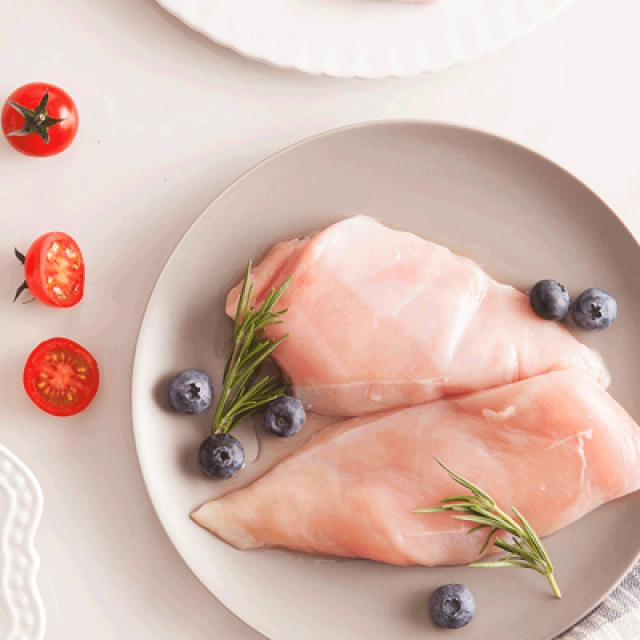chicken: (186, 368, 640, 566)
